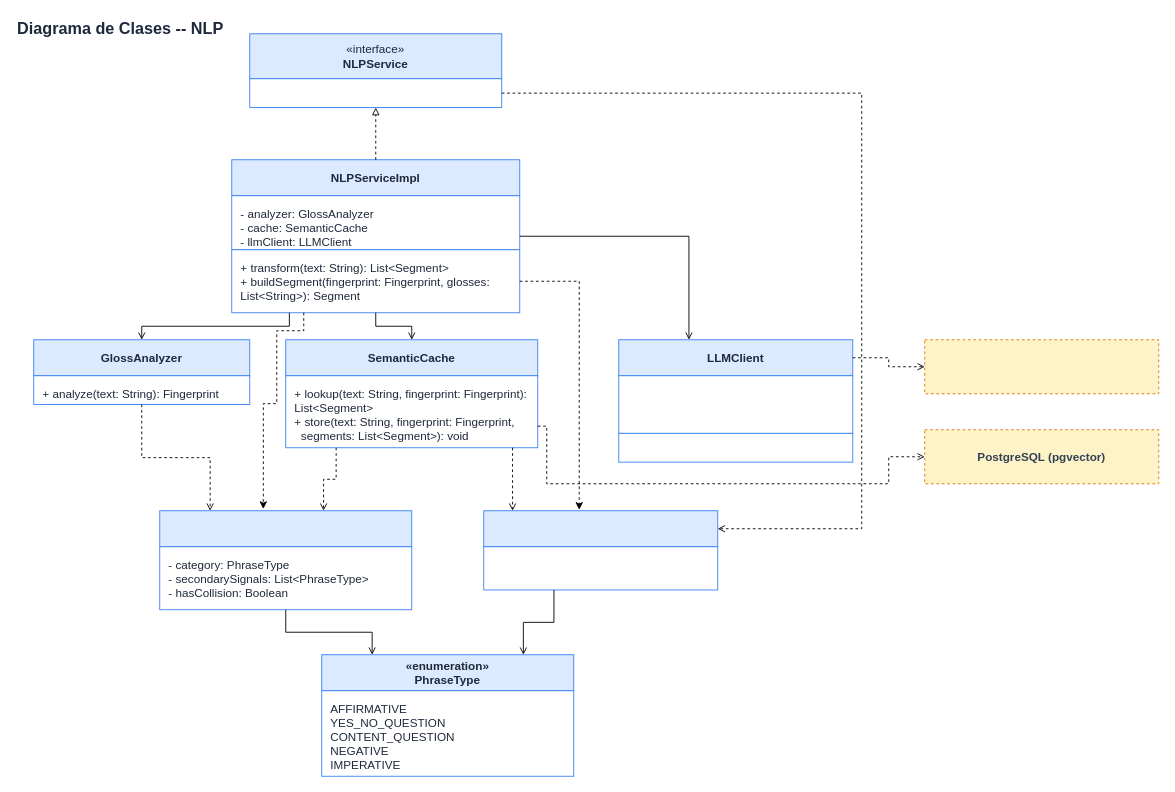
This 1175x792 diagram has some shape labels left out. The centre of each missing label's shape, as x and y in pixels:
"+ transform(text: String): List<Segment>" goes at pixel 375 93.
"+ transform(text: String): List<String>" goes at pixel 735 447.
"- model: String - temperature: Double - timeoutMs: Int" goes at pixel 735 404.
"- type: PhraseType - glosses: List<String>" goes at pixel 600 568.
"External LLM API" goes at pixel 1041 366.
"Fingerprint" goes at pixel 285 528.
"Segment" goes at pixel 600 528.
